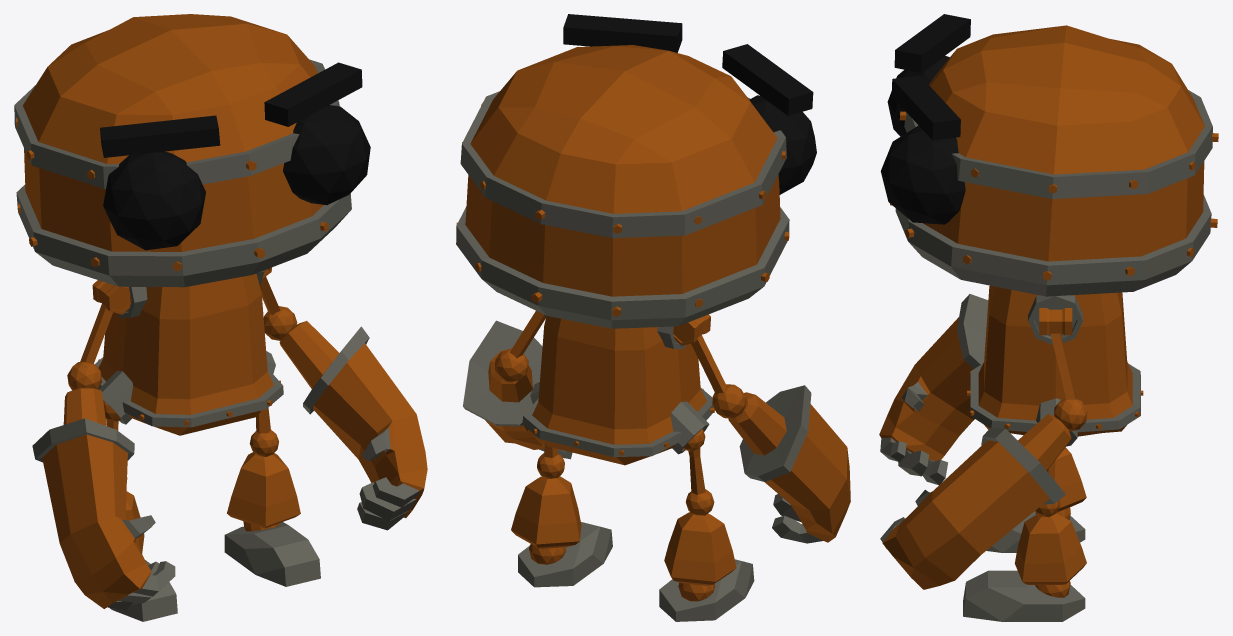
The model's file is Robot.obj.
The picture shows the model from 3 angles, left to right: view 1: azimuth 30°, elevation 25°; view 2: azimuth 150°, elevation 25°; view 3: azimuth 270°, elevation 25°; orthographic projection.
Visible parts, largest first — view 1: Head_Cylinder, Torso_Cube.001, Hand.R_Cylinder.015, Hand.L_Cylinder.022, Foot.L_Cylinder.014, LowerLeg.L_Cylinder.012, Arm.R_Cylinder.013, Foot.R_Cylinder.017, Arm.L_Cylinder.010, Shoulder.R_Cylinder.009, Leg.L_Cylinder.011; view 2: Head_Cylinder, Torso_Cube.001, Hand.R_Cylinder.015, Hand.L_Cylinder.022, LowerLeg.R_Cylinder.018, LowerLeg.L_Cylinder.012, Foot.L_Cylinder.014, Foot.R_Cylinder.017, Arm.R_Cylinder.013, Arm.L_Cylinder.010, Leg.R_Cylinder.019, Shoulder.R_Cylinder.009 (+1 smaller); view 3: Head_Cylinder, Torso_Cube.001, Hand.L_Cylinder.022, Hand.R_Cylinder.015, Foot.L_Cylinder.014, LowerLeg.L_Cylinder.012, Arm.L_Cylinder.010, LowerLeg.R_Cylinder.018, Shoulder.L_Cylinder.008, Foot.R_Cylinder.017.
Part boxes in pixels (<box>): Head_Cylinder: <box>14,14,370,287</box>; Torso_Cube.001: <box>94,270,283,435</box>; Hand.R_Cylinder.015: <box>32,387,175,610</box>; Hand.L_Cylinder.022: <box>279,321,427,530</box>; Foot.L_Cylinder.014: <box>224,522,320,586</box>; LowerLeg.L_Cylinder.012: <box>227,452,300,531</box>; Arm.R_Cylinder.013: <box>67,303,112,390</box>; Foot.R_Cylinder.017: <box>109,560,177,621</box>; Arm.L_Cylinder.010: <box>260,276,297,340</box>; Shoulder.R_Cylinder.009: <box>92,280,131,314</box>; Leg.L_Cylinder.011: <box>249,407,278,456</box>; Head_Cylinder: <box>456,14,816,328</box>; Torso_Cube.001: <box>522,315,714,465</box>; Hand.R_Cylinder.015: <box>728,385,850,543</box>; Hand.L_Cylinder.022: <box>463,320,572,459</box>; LowerLeg.R_Cylinder.018: <box>664,512,736,601</box>; LowerLeg.L_Cylinder.012: <box>511,476,581,564</box>; Foot.L_Cylinder.014: <box>518,522,612,587</box>; Foot.R_Cylinder.017: <box>659,559,754,621</box>; Arm.R_Cylinder.013: <box>691,335,745,418</box>; Arm.L_Cylinder.010: <box>495,311,545,382</box>; Leg.R_Cylinder.019: <box>685,447,714,515</box>; Shoulder.R_Cylinder.009: <box>672,314,710,345</box>; Head_Cylinder: <box>880,14,1218,296</box>; Torso_Cube.001: <box>967,285,1143,446</box>; Hand.L_Cylinder.022: <box>880,414,1071,589</box>; Hand.R_Cylinder.015: <box>879,294,988,485</box>; Foot.L_Cylinder.014: <box>963,570,1085,621</box>; LowerLeg.L_Cylinder.012: <box>1014,513,1086,597</box>; Arm.L_Cylinder.010: <box>1050,333,1087,431</box>; LowerLeg.R_Cylinder.018: <box>1035,447,1086,519</box>; Shoulder.L_Cylinder.008: <box>1039,308,1072,335</box>; Foot.R_Cylinder.017: <box>986,511,1085,552</box>.
Size of the model in its own units: 3.1 by 4.5 by 2.63.
